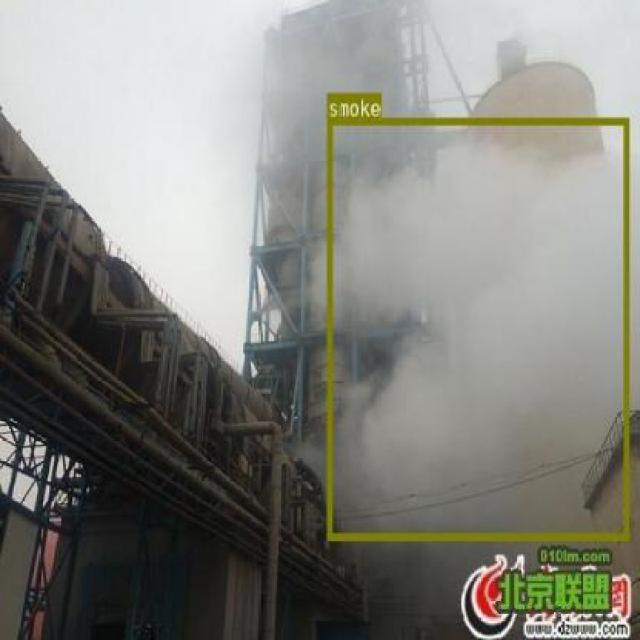Smoke: (326, 116, 628, 539)
